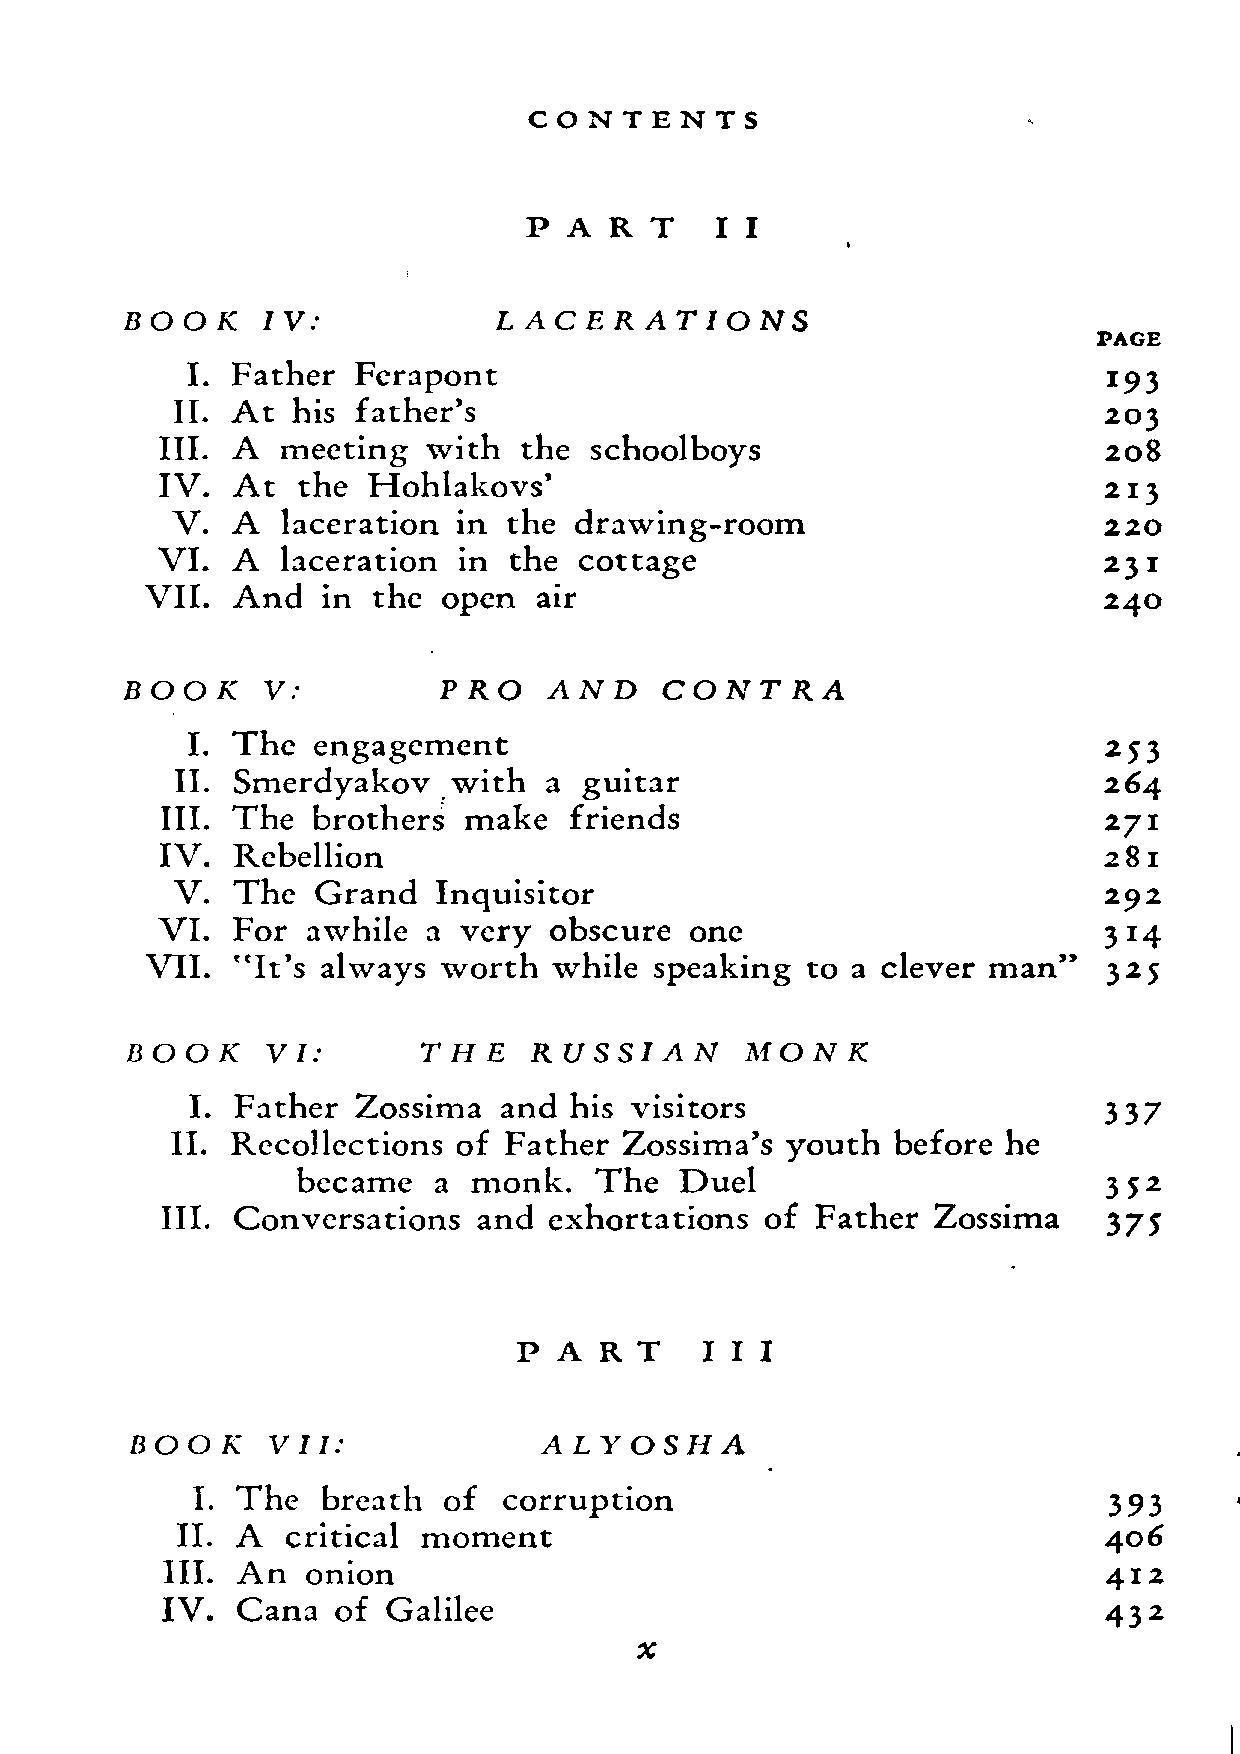TOC_chapter: (165, 1129, 1049, 1198), (157, 1198, 1070, 1239), (115, 1029, 880, 1071), (144, 951, 1082, 985), (115, 670, 843, 709), (162, 505, 811, 544), (119, 298, 809, 334), (119, 1427, 756, 1465), (181, 1084, 756, 1125), (153, 433, 768, 468), (153, 913, 746, 947), (166, 766, 688, 805), (185, 1480, 675, 1520), (154, 544, 696, 578), (136, 577, 581, 619), (157, 803, 691, 833), (168, 878, 596, 911), (174, 346, 505, 389), (183, 723, 521, 764), (173, 1519, 556, 1554), (164, 392, 484, 431), (154, 1593, 499, 1628), (509, 1327, 786, 1369), (511, 201, 772, 246), (156, 472, 545, 497), (158, 1555, 403, 1590), (153, 837, 386, 874)
TOC_pagenumber: (1098, 585, 1165, 620), (1103, 770, 1172, 804), (1100, 807, 1161, 844), (1103, 1166, 1165, 1202), (1100, 730, 1164, 765), (1100, 915, 1165, 949), (1104, 1094, 1166, 1129), (1104, 956, 1164, 992), (1096, 365, 1168, 395), (1100, 545, 1159, 580), (1103, 1596, 1162, 1631), (1100, 844, 1164, 876), (1108, 1483, 1165, 1518), (1104, 1520, 1166, 1551), (1104, 1210, 1172, 1239), (1103, 1559, 1168, 1588), (1104, 884, 1166, 913), (1103, 476, 1164, 505), (1104, 401, 1161, 429), (1100, 437, 1164, 462), (1104, 513, 1161, 537)
chapter: (517, 99, 768, 141)
